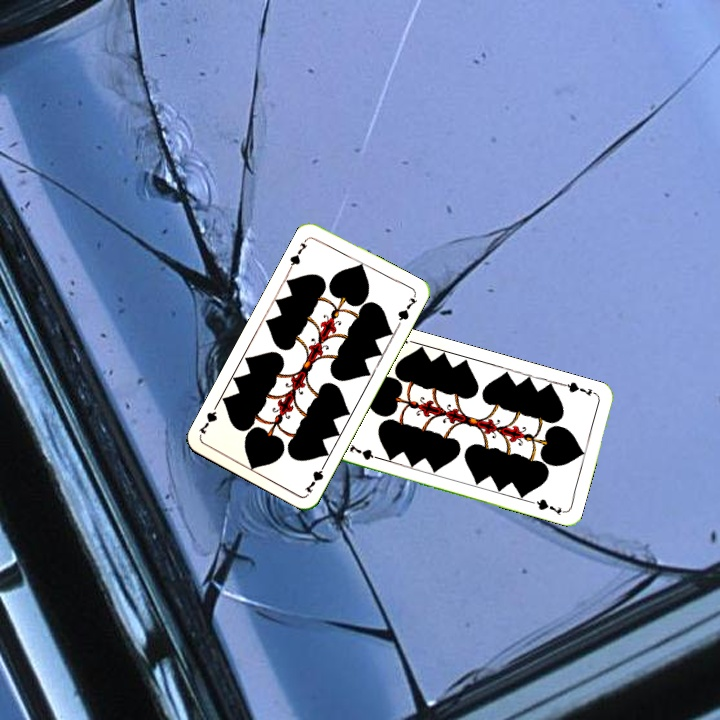G7: (300, 458, 329, 496), (285, 234, 311, 272), (345, 441, 385, 463), (559, 378, 599, 399)
